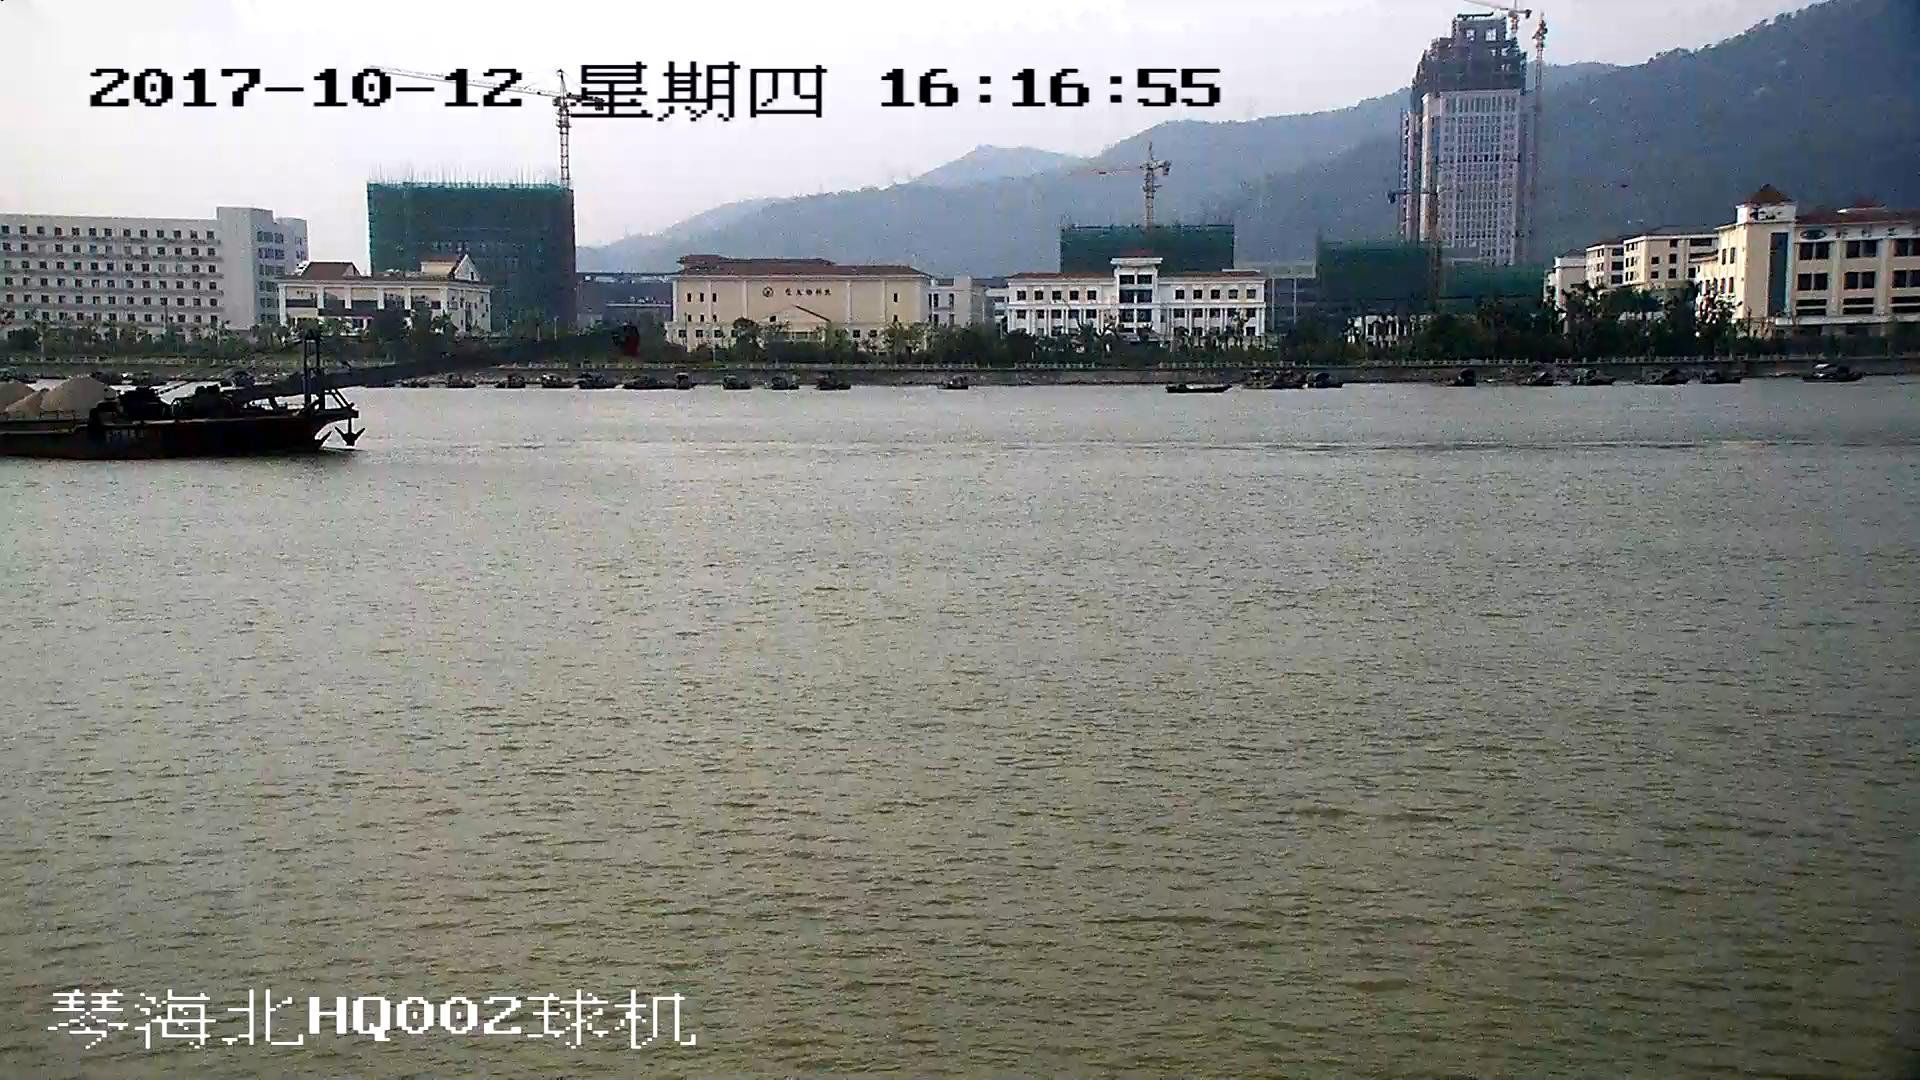ore carrier: (1, 334, 612, 455)
